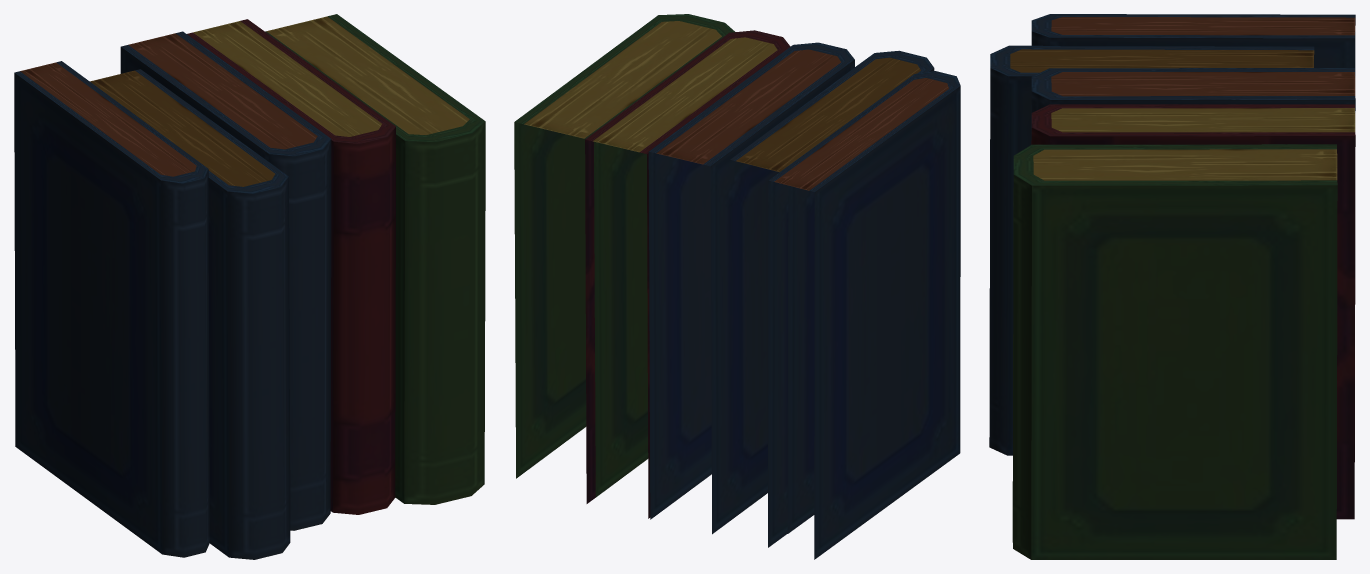
Rendered from prop_bookgroup_small_3.glb.
The picture shows the model from 3 angles, left to right: view 1: azimuth 30°, elevation 25°; view 2: azimuth 150°, elevation 25°; view 3: azimuth 270°, elevation 25°; orthographic projection. The views are drawn at different scales.
Visible parts, largest first — view 1: BookGroup_Small_3; view 2: BookGroup_Small_3; view 3: BookGroup_Small_3.
Part boxes in pixels (bbox=[...]): BookGroup_Small_3: bbox=[14, 14, 485, 559]; BookGroup_Small_3: bbox=[514, 14, 960, 559]; BookGroup_Small_3: bbox=[989, 14, 1355, 559].
Size of the model in its own units: 0.2448 by 0.2774 by 0.2372.
Materials: 1 (1 with a texture image).
